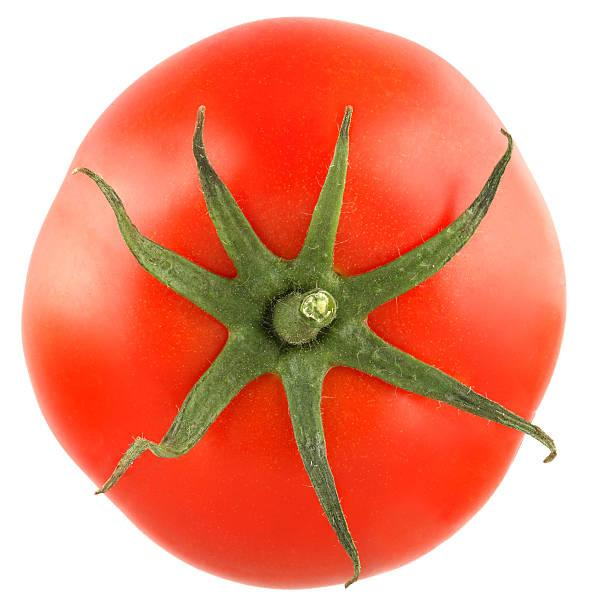Tomato: (19, 15, 565, 585)
